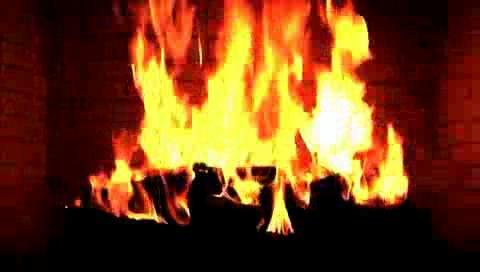fire: (128, 7, 379, 192)
